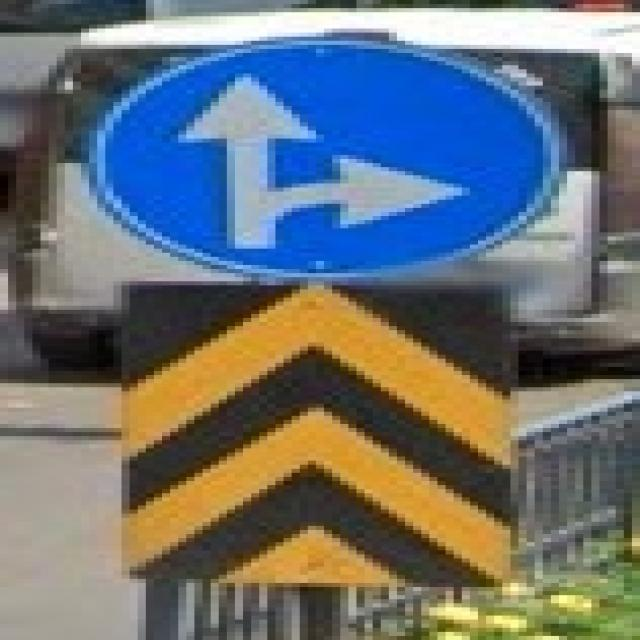Straight or Right: (70, 46, 532, 278)
